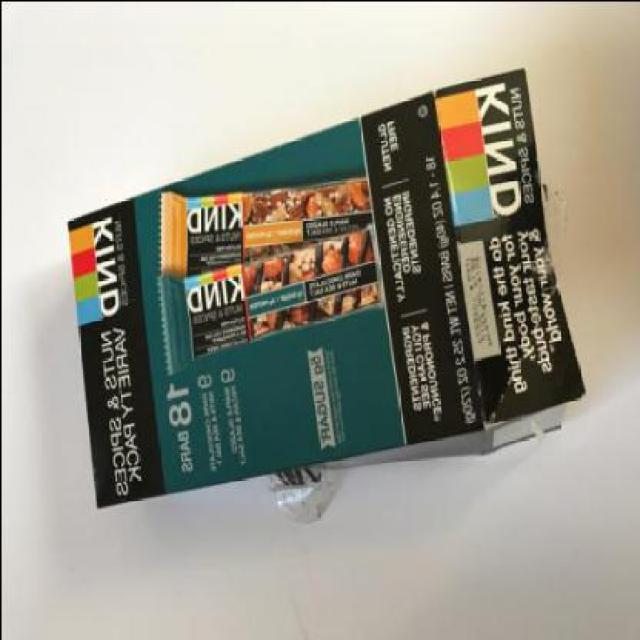paper: (65, 72, 584, 522)
